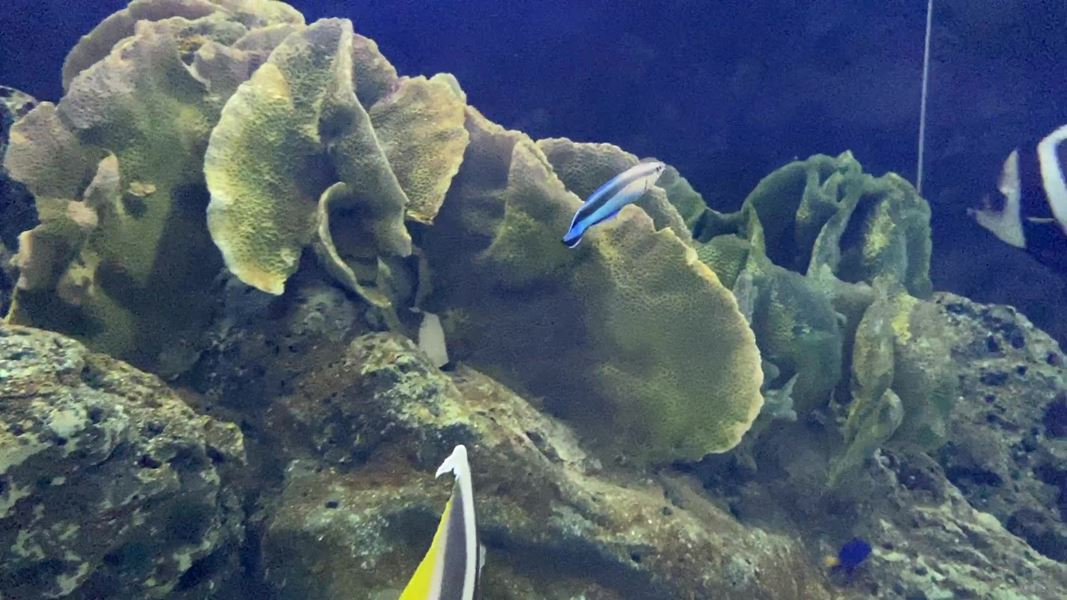Bluesteak cleaner wrasse: (554, 158, 669, 266)
